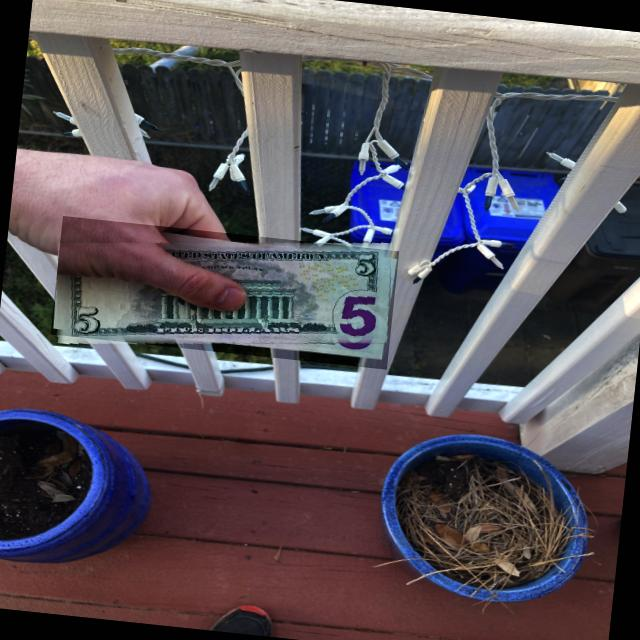five: (51, 216, 400, 369)
